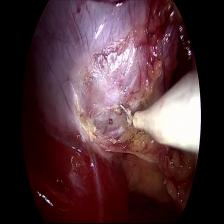Hook: (119, 69, 204, 156)
